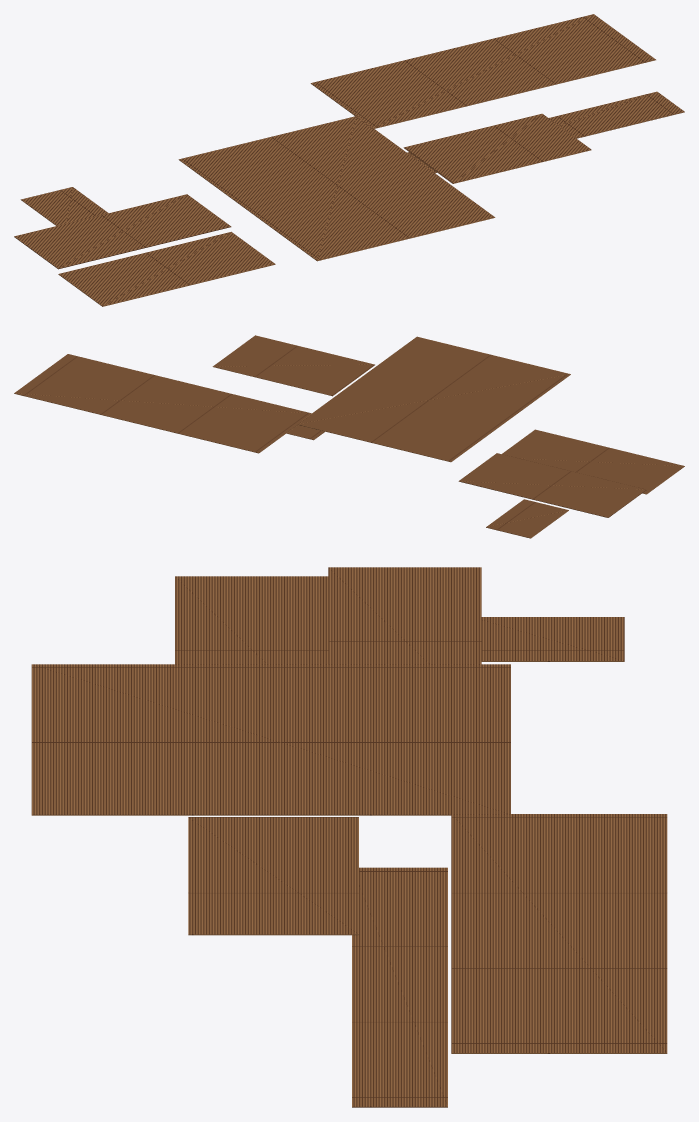
Rendered from Celling.obj.
The picture shows the model from 3 angles, top to bottom: view 1: azimuth 30°, elevation 25°; view 2: azimuth 150°, elevation 25°; view 3: azimuth 270°, elevation 25°; orthographic projection. The views are drawn at different scales.
Visible parts, largest first — view 1: Celiling; view 2: Celiling; view 3: Celiling.
Part boxes in pixels (x1,y1,x2,y2): Celiling: (14,14,684,306); Celiling: (14,335,684,538); Celiling: (31,567,667,1107).
Bounding box in the file's own units: 256 × 13.2 × 129.
